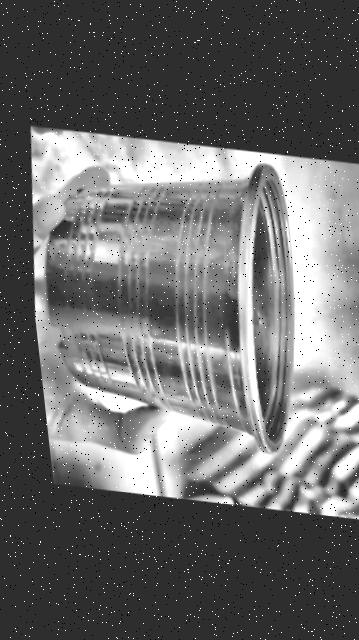pot: (17, 140, 324, 463)
